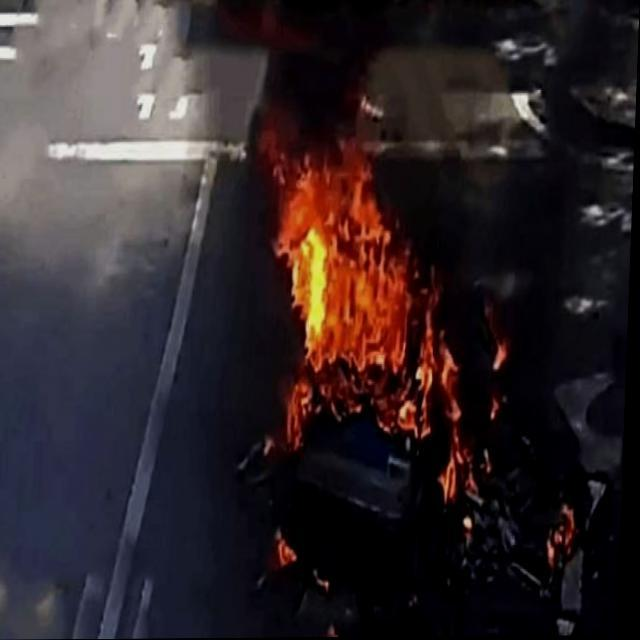Fire: (253, 124, 517, 583)
